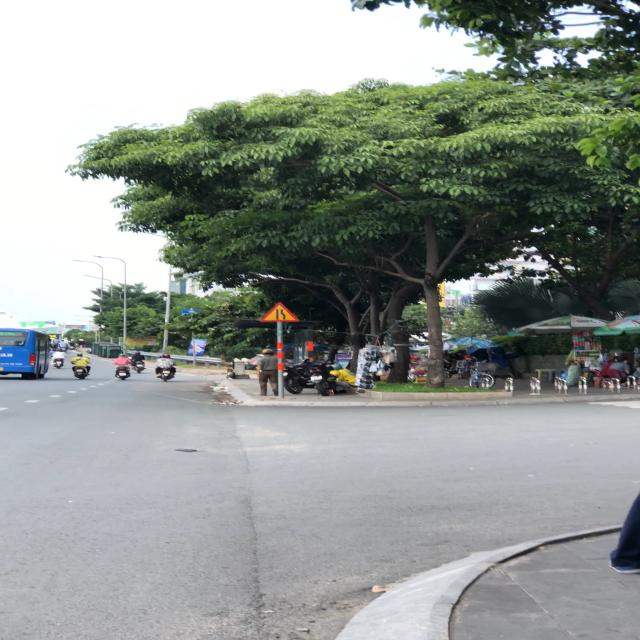Bien bao duong bi thu hep: (258, 302, 301, 322)
